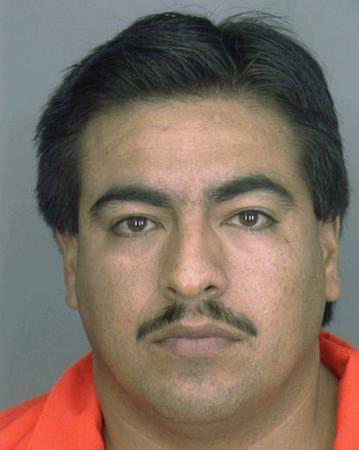Face: (79, 94, 310, 424)
